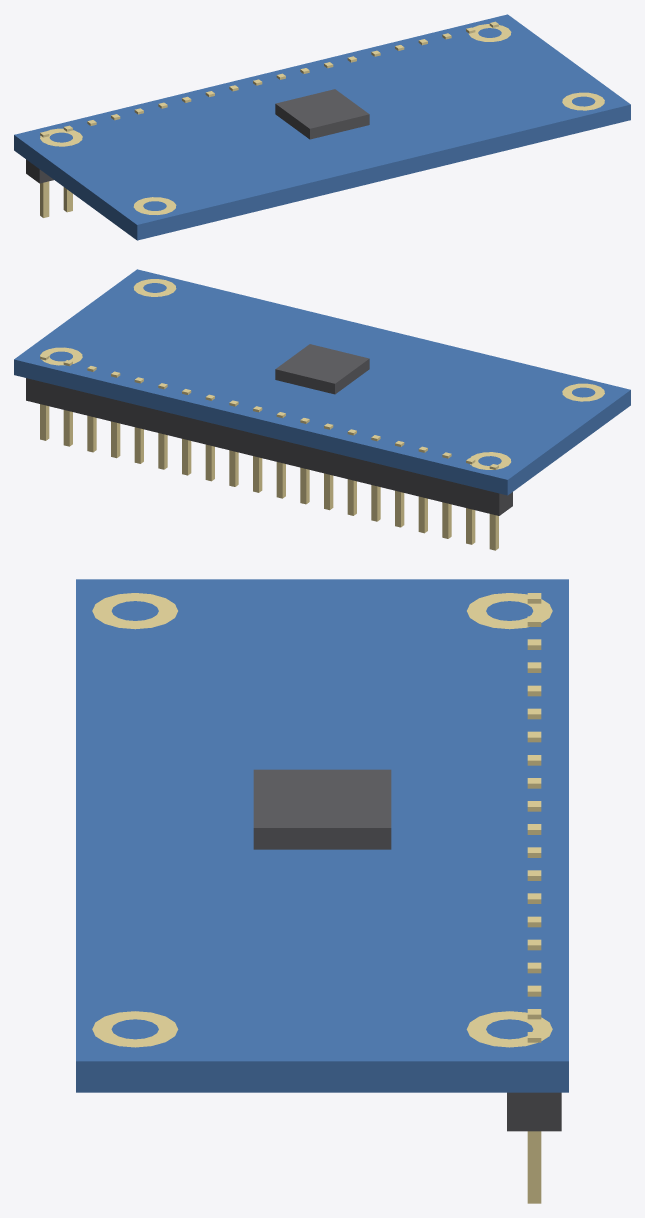
The model's file is stm32-blue-pill.glb.
3 views of the same model, one above another, from view 1: azimuth 30°, elevation 25°; view 2: azimuth 150°, elevation 25°; view 3: azimuth 270°, elevation 25° (orthographic). The views are drawn at different scales.
Visible parts, largest first — view 1: stm32-blue-pill-pcb, stm32-blue-pill-ic, stm32-blue-pill-mounting-pads, stm32-blue-pill-pins; view 2: stm32-blue-pill-pcb, stm32-blue-pill-plastic, stm32-blue-pill-pins, stm32-blue-pill-ic, stm32-blue-pill-mounting-pads; view 3: stm32-blue-pill-pcb, stm32-blue-pill-ic, stm32-blue-pill-mounting-pads, stm32-blue-pill-pins, stm32-blue-pill-plastic.
Part boxes in pixels (<box>): stm32-blue-pill-pcb: <box>14,14,630,240</box>; stm32-blue-pill-ic: <box>275,89,369,139</box>; stm32-blue-pill-mounting-pads: <box>40,24,604,214</box>; stm32-blue-pill-pins: <box>40,21,498,217</box>; stm32-blue-pill-pcb: <box>14,269,630,495</box>; stm32-blue-pill-plastic: <box>26,378,512,515</box>; stm32-blue-pill-pins: <box>40,354,498,550</box>; stm32-blue-pill-ic: <box>275,344,369,394</box>; stm32-blue-pill-mounting-pads: <box>40,279,604,469</box>; stm32-blue-pill-pcb: <box>76,579,568,1092</box>; stm32-blue-pill-ic: <box>253,769,391,849</box>; stm32-blue-pill-mounting-pads: <box>92,593,552,1047</box>; stm32-blue-pill-pins: <box>527,593,541,1203</box>; stm32-blue-pill-plastic: <box>507,1092,561,1131</box>.
Size of the model in its own units: 0.053 by 0.00935 by 0.0229.
